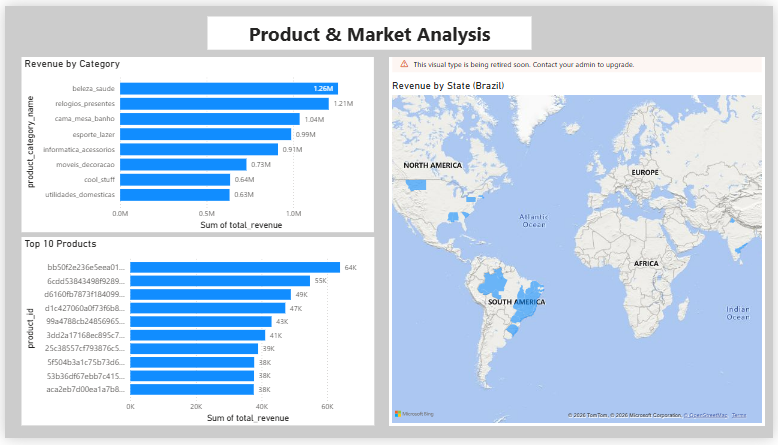

This screenshot's page, from the dashboard's own definition file:
{"tool":"powerbi","page":{"name":"Product & Market Analysis","canvas":[1280,720],"ordinal":1},"visuals":[{"type":"clusteredBarChart","title":"Revenue by Category","fields":{"Category":["ecommerce_project vw_product_performance.product_category_name"],"Y":["Sum(ecommerce_project vw_product_performance.total_revenue)"]},"box":[28,86,587,292],"z":0},{"type":"clusteredBarChart","title":"Top 10 Products","fields":{"Category":["ecommerce_project vw_product_performance.product_id"],"Y":["Sum(ecommerce_project vw_product_performance.total_revenue)"]},"box":[28,386,588,314],"z":1000},{"type":"filledMap","title":"Revenue by State (Brazil)","fields":{"Category":["ecommerce_project vw_revenue_by_state.customer_state"]},"box":[640,86.2,626.2,613.8],"z":2000},{"type":"textbox","box":[337.5,17.5,540,55],"z":3000}]}

Visuals, with their boxes in screenshot pixels (x1, y1, x2, y2), scaled from the page's 1280x720 canvas onto the 778x445 screenshot:
"Revenue by Category" clusteredBarChart: {"left": 17, "top": 53, "right": 374, "bottom": 234}
"Top 10 Products" clusteredBarChart: {"left": 17, "top": 239, "right": 374, "bottom": 433}
"Revenue by State (Brazil)" filledMap: {"left": 389, "top": 53, "right": 770, "bottom": 433}
textbox: {"left": 205, "top": 11, "right": 533, "bottom": 45}
